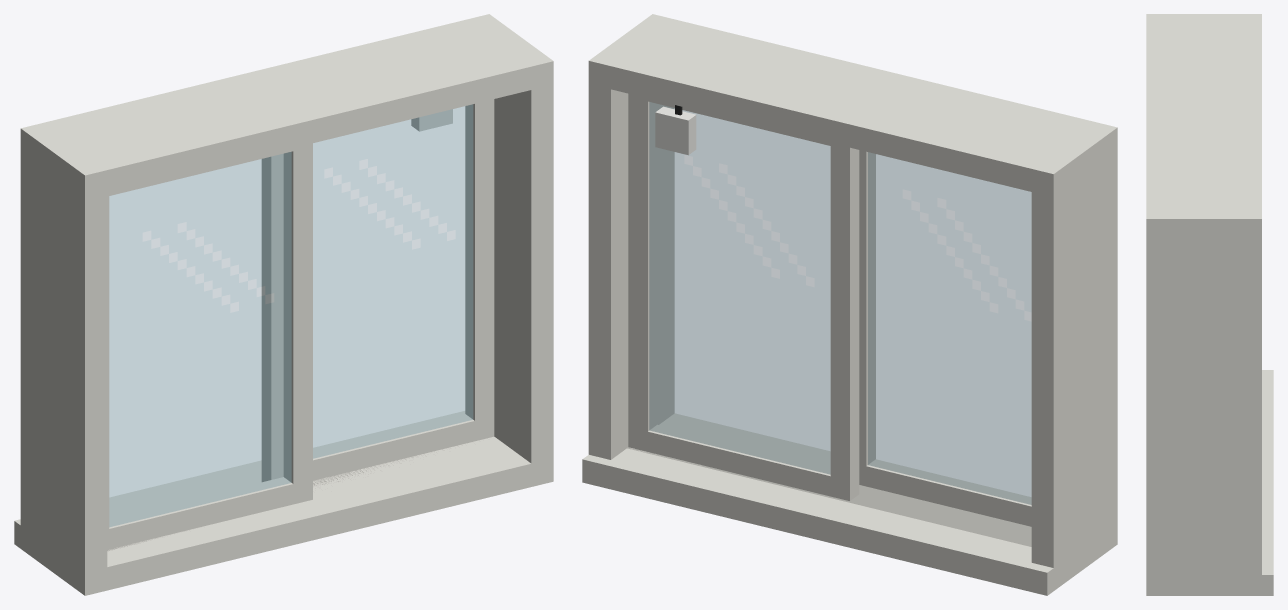
The model's file is t_window_no_curtains_alarm.glb.
3 renders of one model, left to right at view 1: azimuth 30°, elevation 25°; view 2: azimuth 150°, elevation 25°; view 3: azimuth 270°, elevation 25°, orthographic. The views are drawn at different scales.
Parts seen in each view (by area): view 1: block_slider-glass, block_fixed-glass, block_lintel, block_stile-1, block_sill, block_stile1, block_slider-r, block_fixed-r, block_fixed-l, block_slider-bottom, block_fixed-bottom, block_slider-l (+1 smaller); view 2: block_fixed-glass, block_slider-glass, block_lintel, block_stile-1, block_sill, block_stile1, block_fixed-l, block_fixed-r, block_fixed-bottom, block_slider-r, block_slider-bottom, block_track (+2 smaller); view 3: block_stile1, block_lintel, block_sill, block_stile-1.
Part boxes in pixels (x1,y1,x2,y2): block_slider-glass: (109, 152, 291, 526); block_fixed-glass: (313, 104, 473, 458); block_lintel: (20, 14, 553, 198); block_stile-1: (20, 123, 107, 595); block_sill: (14, 411, 553, 595); block_stile1: (471, 14, 553, 486); block_slider-r: (283, 143, 312, 501); block_fixed-r: (465, 99, 494, 437); block_fixed-l: (261, 154, 283, 481); block_slider-bottom: (107, 477, 312, 549); block_fixed-bottom: (261, 414, 494, 481); block_slider-l: (107, 194, 109, 529); block_fixed-glass: (649, 102, 830, 474); block_slider-glass: (868, 152, 1031, 504); block_lintel: (588, 14, 1117, 197); block_stile-1: (1031, 122, 1117, 590); block_sill: (582, 413, 1117, 595); block_stile1: (588, 15, 674, 459); block_fixed-l: (830, 143, 859, 500); block_fixed-r: (628, 94, 657, 448); block_fixed-bottom: (628, 425, 859, 500); block_slider-r: (859, 150, 875, 465); block_slider-bottom: (859, 459, 1031, 526); block_track: (627, 447, 1031, 546); block_stile1: (1146, 209, 1261, 595); block_lintel: (1146, 14, 1261, 239); block_sill: (1146, 370, 1273, 595); block_stile-1: (1146, 14, 1261, 23).
Bounding box in the file's own units: 0.84 × 0.72 × 0.22.
2 materials, 2 textured.
